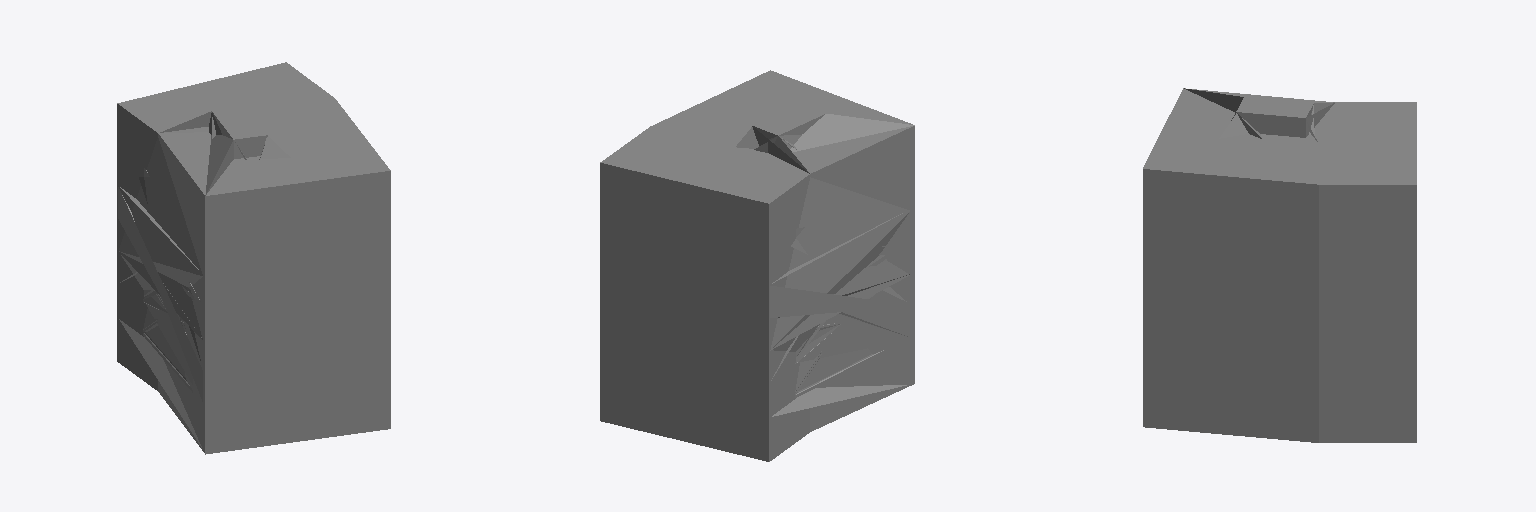
The model's file is House_type-3.obj.
3 views of the same model, side by side, from view 1: azimuth 30°, elevation 25°; view 2: azimuth 150°, elevation 25°; view 3: azimuth 270°, elevation 25° (orthographic).
Parts seen in each view (by area): view 1: floor6, wall, win, floor1, balcon; view 2: floor6, balcon, wall, win, floor1; view 3: floor6, balcon, win, floor1, wall.
Boxes of the visible parts, <box> form: floor6: <box>117,62,390,454</box>; wall: <box>118,117,290,447</box>; win: <box>158,115,231,452</box>; floor1: <box>160,111,233,195</box>; balcon: <box>120,114,232,434</box>; floor6: <box>600,70,914,461</box>; balcon: <box>600,115,914,461</box>; wall: <box>736,127,910,416</box>; win: <box>602,114,914,460</box>; floor1: <box>752,114,914,173</box>; floor6: <box>1143,88,1416,442</box>; balcon: <box>1143,112,1318,442</box>; win: <box>1143,112,1317,425</box>; floor1: <box>1184,88,1334,136</box>; wall: <box>1219,105,1317,141</box>.
Bounding box in the file's own units: 974 × 1308 × 1169.